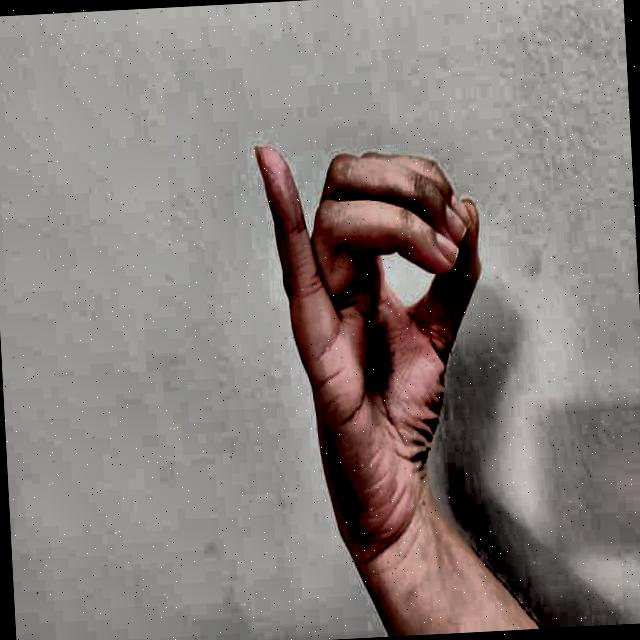Ou: (230, 85, 516, 560)
